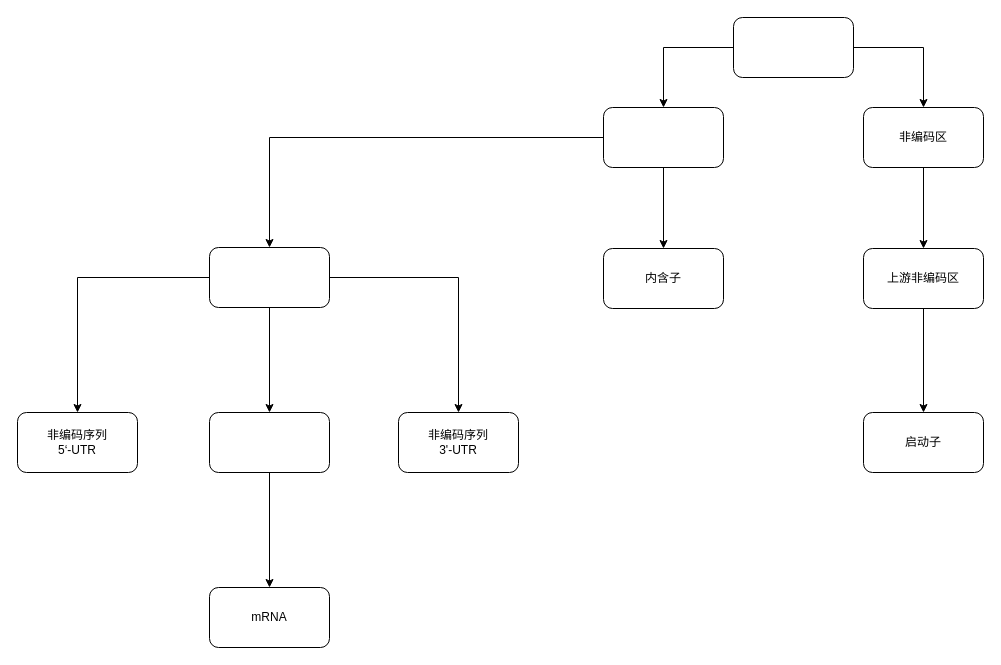
Some shapes in this 1001 by 665 pixel diagram are drawn without their labels. Here are the shapes that lost their labels. From the top down, the centre of each, then its label:
At (793,47): "DNA".
At (663,137): "编码区".
At (269,277): "外显子".
At (269,442): "编码序列 CDS".
